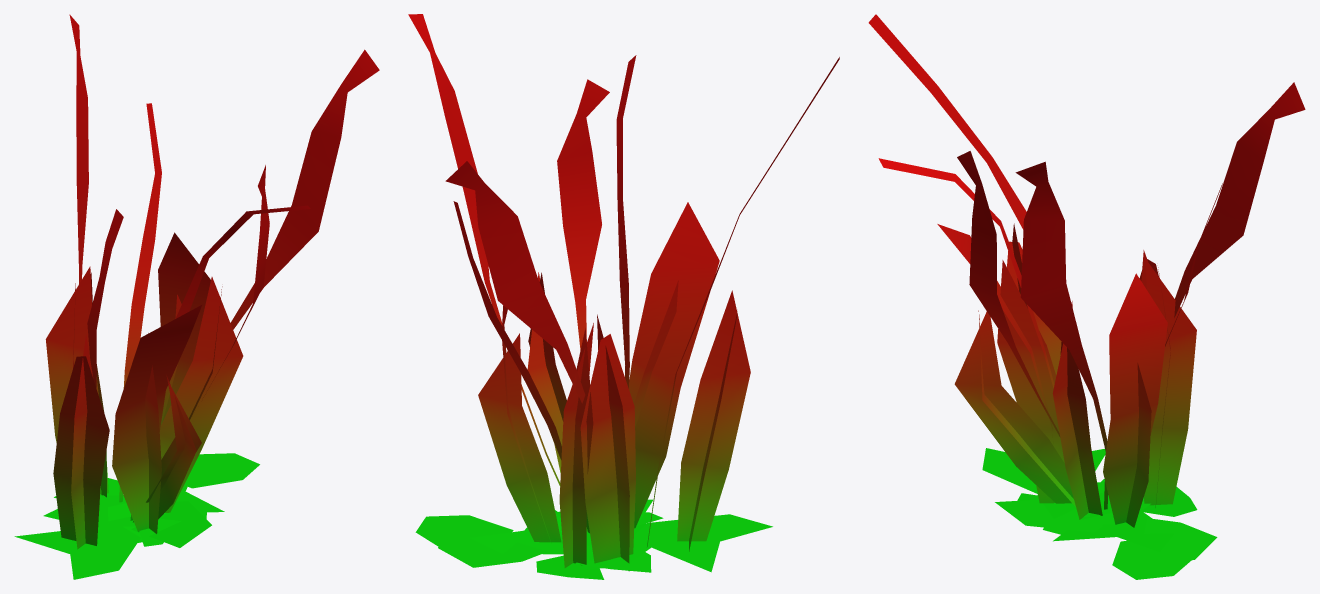
Rendered from Var5_LOD1.fbx.
3 views of the same model, side by side, from view 1: azimuth 30°, elevation 25°; view 2: azimuth 150°, elevation 25°; view 3: azimuth 270°, elevation 25° (orthographic). The views are drawn at different scales.
Parts seen in each view (by area): view 1: _0e87_Var5_LOD1; view 2: _0e87_Var5_LOD1; view 3: _0e87_Var5_LOD1.
Boxes of the visible parts, bbox=[...] form: _0e87_Var5_LOD1: bbox=[14, 14, 379, 579]; _0e87_Var5_LOD1: bbox=[408, 14, 839, 579]; _0e87_Var5_LOD1: bbox=[868, 14, 1305, 579].
Size of the model in its own units: 24.38 by 31.3 by 26.86.
